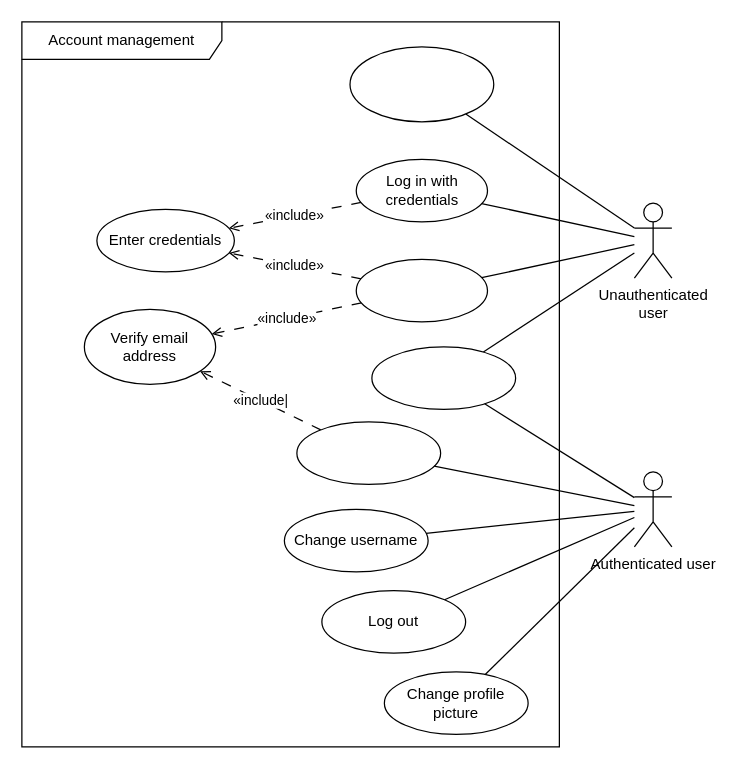
Image size: 738x769. Some labels were removed from this diagram. Each missing label, with the centre of its shape:
Authenticate via OAuth provider: the point at 421,84
Change email: the point at 368,452
Reset password: the point at 443,377
Sign up with credentials: the point at 421,290
